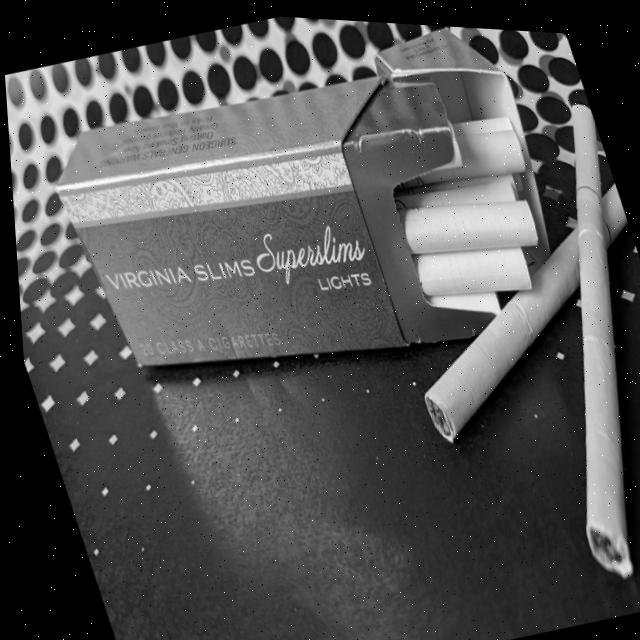cigarette: (426, 223, 580, 441), (571, 104, 634, 580), (397, 199, 537, 255), (395, 129, 525, 189), (410, 246, 533, 298)
